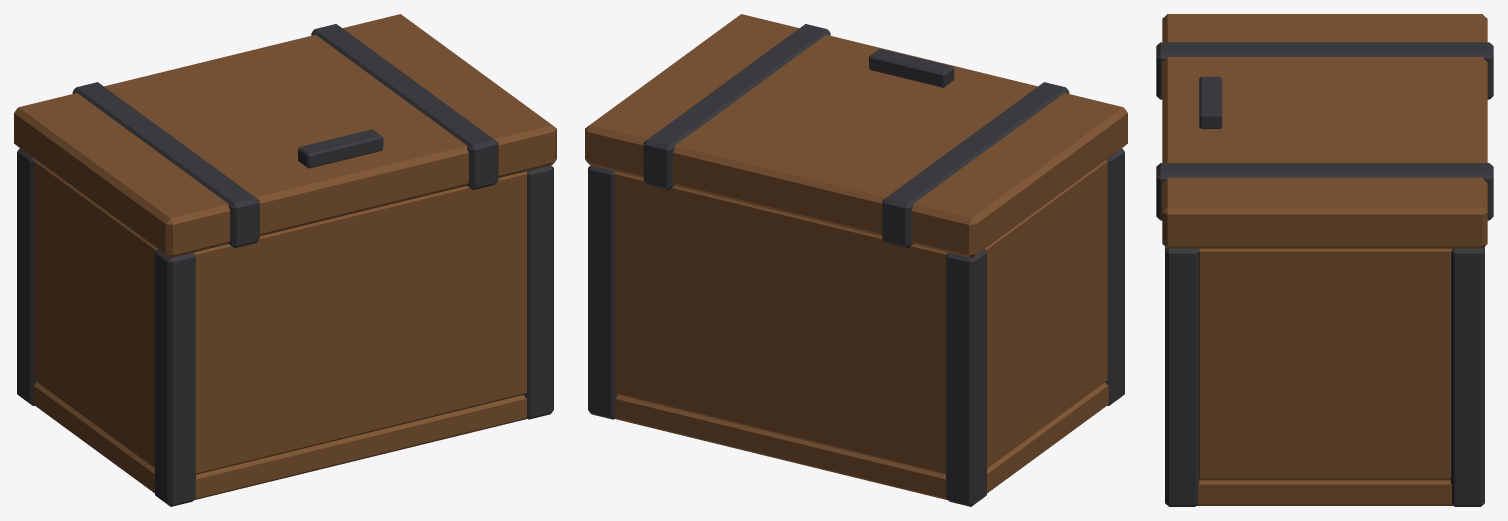
File: Prop_Ash_SeedCache_Closed.glb
3 renders of one model, left to right at view 1: azimuth 30°, elevation 25°; view 2: azimuth 150°, elevation 25°; view 3: azimuth 270°, elevation 25°, orthographic. The views are drawn at different scales.
Parts seen in each view (by area): view 1: Prop_Ash_SeedCache_Closed, Prop_Ash_SeedCache_Closed_Lid; view 2: Prop_Ash_SeedCache_Closed, Prop_Ash_SeedCache_Closed_Lid; view 3: Prop_Ash_SeedCache_Closed, Prop_Ash_SeedCache_Closed_Lid.
Boxes of the visible parts, x1,y1,x2,y2 form: Prop_Ash_SeedCache_Closed: (17,148,553,506); Prop_Ash_SeedCache_Closed_Lid: (14,14,556,257); Prop_Ash_SeedCache_Closed: (588,148,1124,506); Prop_Ash_SeedCache_Closed_Lid: (585,14,1127,257); Prop_Ash_SeedCache_Closed: (1165,246,1484,506); Prop_Ash_SeedCache_Closed_Lid: (1156,14,1493,248).
Size of what is drawn, in the model's own units: 0.82 by 0.61 by 0.59.
